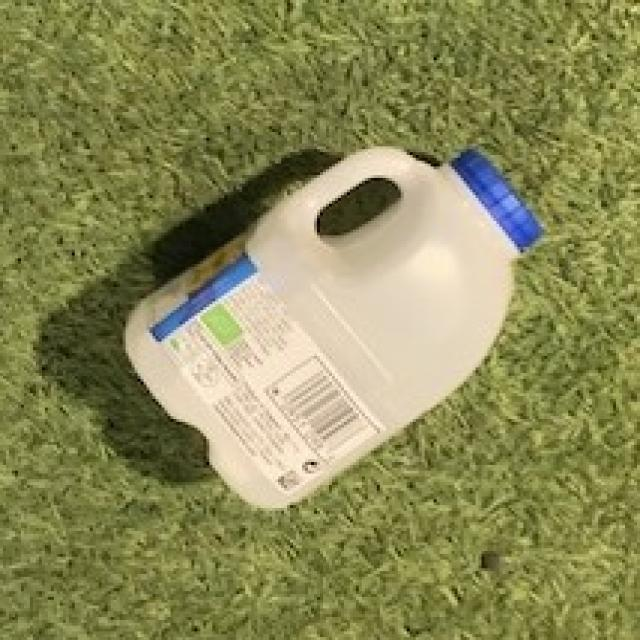HDPE Plastic: (122, 136, 546, 514)
